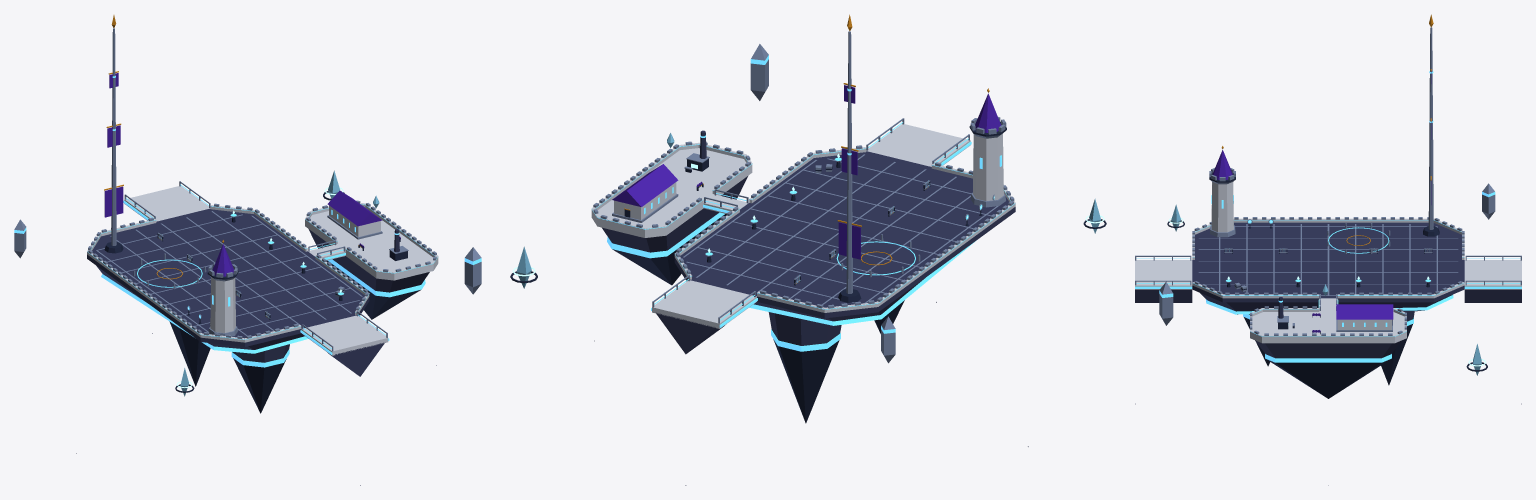
Rendered from chunk_armory.fbx.
3 views of the same model, side by side, from view 1: azimuth 30°, elevation 25°; view 2: azimuth 150°, elevation 25°; view 3: azimuth 270°, elevation 25° (orthographic). The views are drawn at different scales.
Visible parts, largest first — view 1: chunk_armory; view 2: chunk_armory; view 3: chunk_armory.
Part boxes in pixels (x1,y1,x2,y2): chunk_armory: (14, 15, 481, 485); chunk_armory: (510, 14, 1106, 485); chunk_armory: (1135, 14, 1521, 485).
Bounding box in the file's own units: 256 × 256 × 256.
